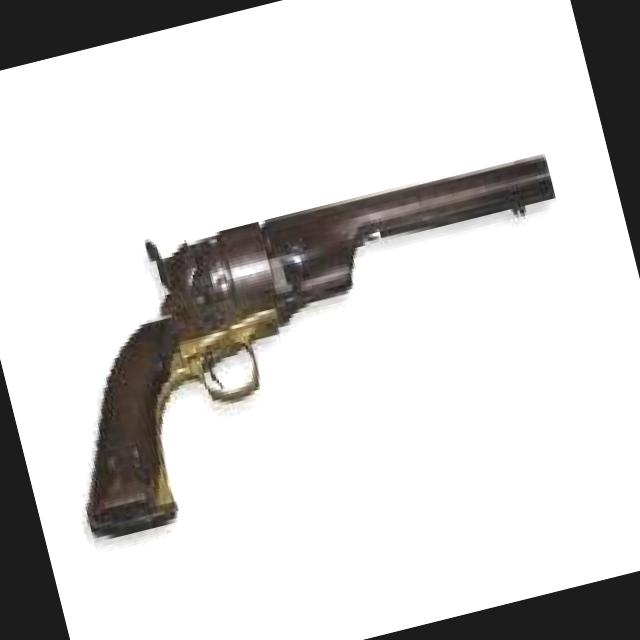handgun: (18, 132, 608, 542)
